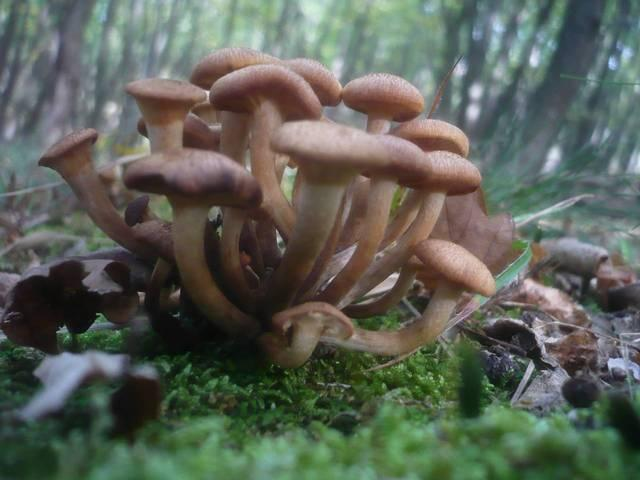edible_mushroom: (22, 46, 512, 371)
